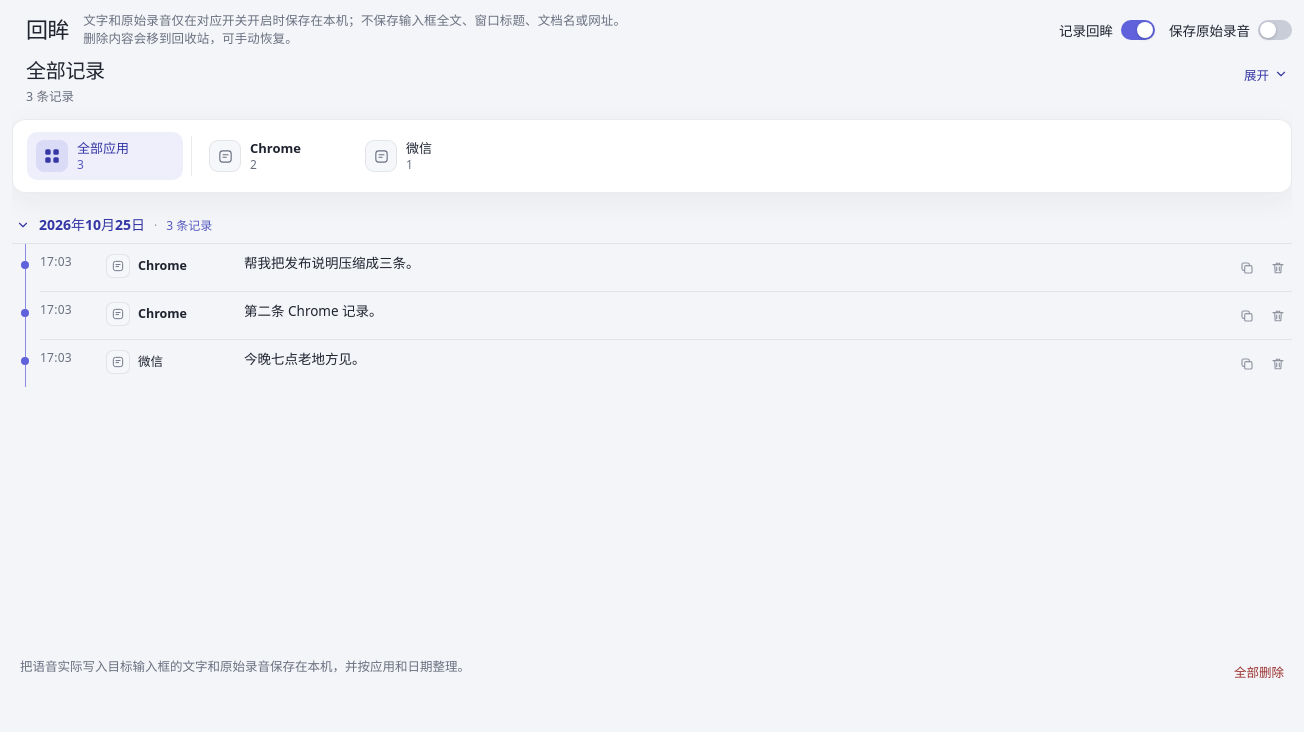
reflections page › reverts the switch and reports when saving fails
Click the checkbox labelled "记录回眸": x=1138, y=30 [1121, 20, 1155, 40]
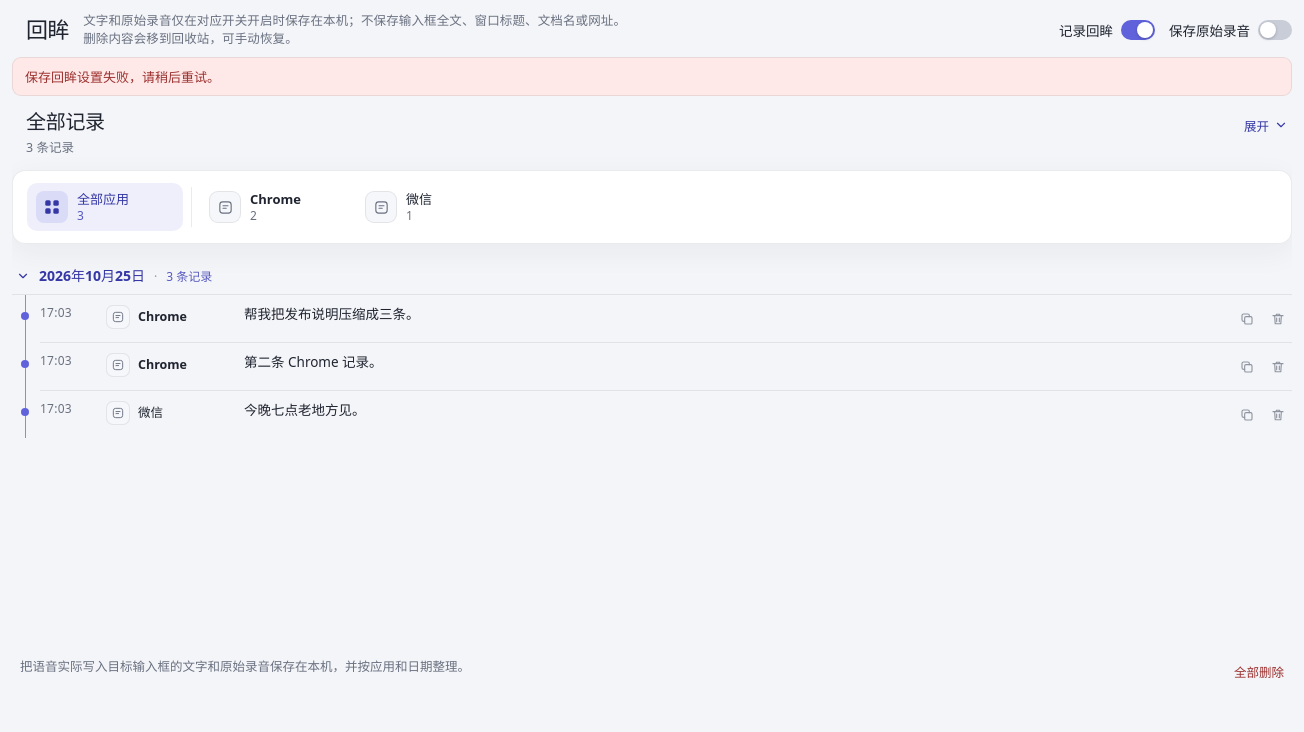
Result: the text "保存回眸设置失败，请稍后重试。" is shown at [12, 57, 1292, 96]
